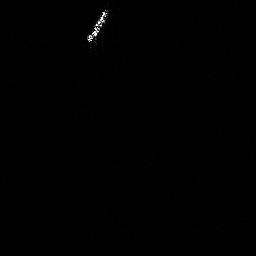ship: (82, 5, 113, 45)
